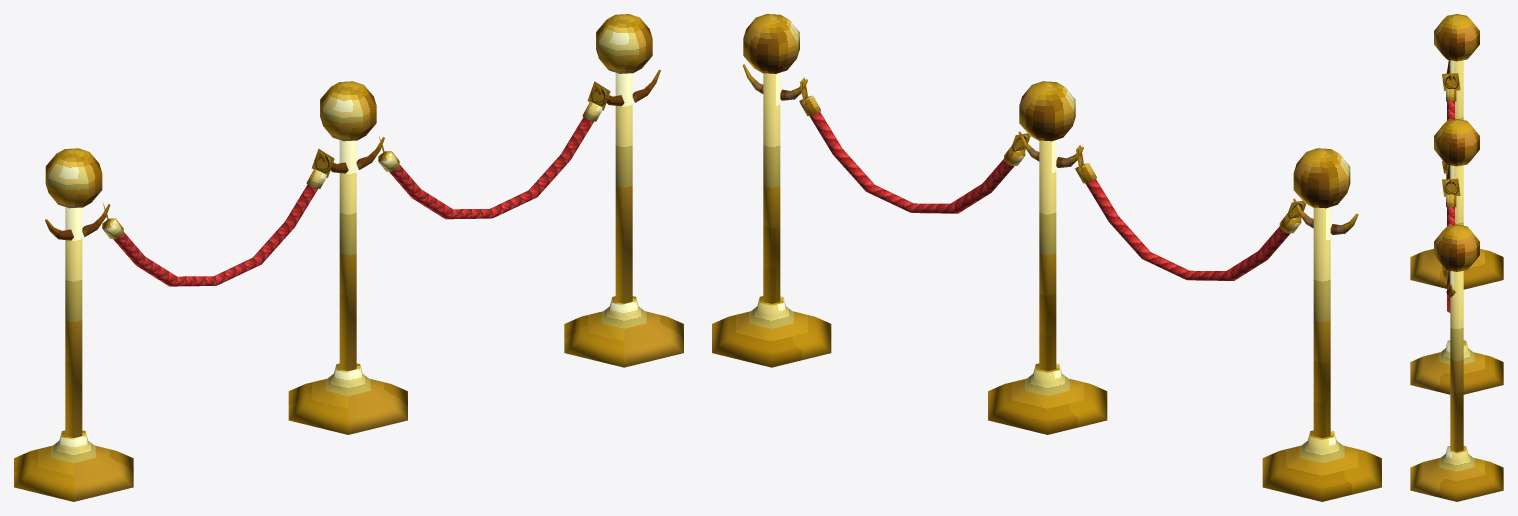
Rendered from int_oth_partitionpole.dae.
3 renders of one model, left to right at view 1: azimuth 30°, elevation 25°; view 2: azimuth 150°, elevation 25°; view 3: azimuth 270°, elevation 25°, orthographic. The views are drawn at different scales.
Parts seen in each view (by area): view 1: int_oth_partitionpole; view 2: int_oth_partitionpole; view 3: int_oth_partitionpole.
Boxes of the visible parts, x1,y1,x2,y2 form: int_oth_partitionpole: (14,14,683,501); int_oth_partitionpole: (712,14,1381,501); int_oth_partitionpole: (1410,14,1503,501).
Bounding box in the file's own units: 62.27 × 28.64 × 9.62.
Materials: 2 (2 with a texture image).
